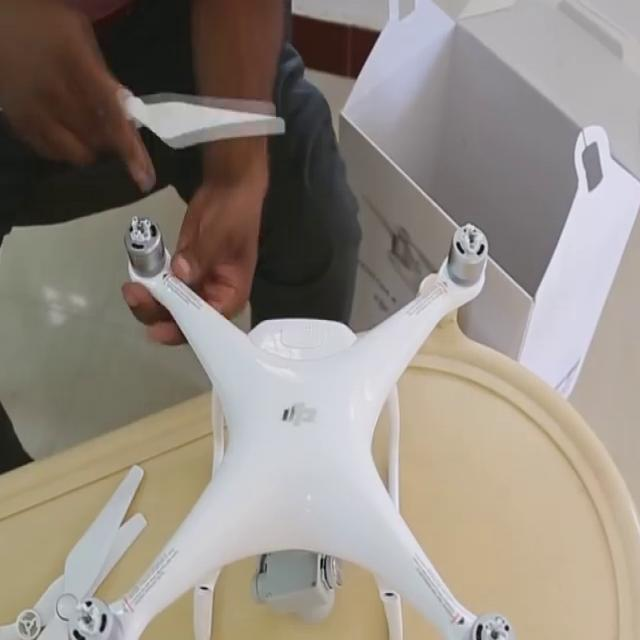drone: (61, 209, 535, 640)
